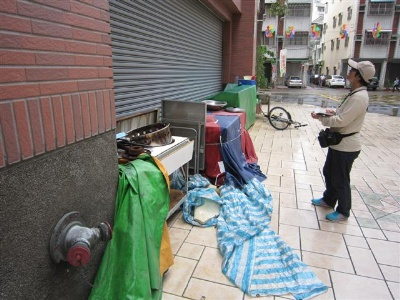bowl: (201, 98, 228, 110)
plastic_bag: (216, 178, 329, 300), (108, 154, 168, 300), (202, 111, 260, 178), (180, 172, 217, 228)
